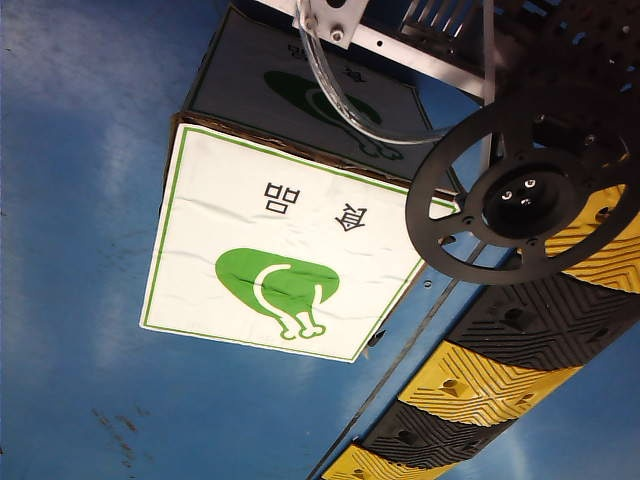Cube_food: (196, 180, 387, 347)
